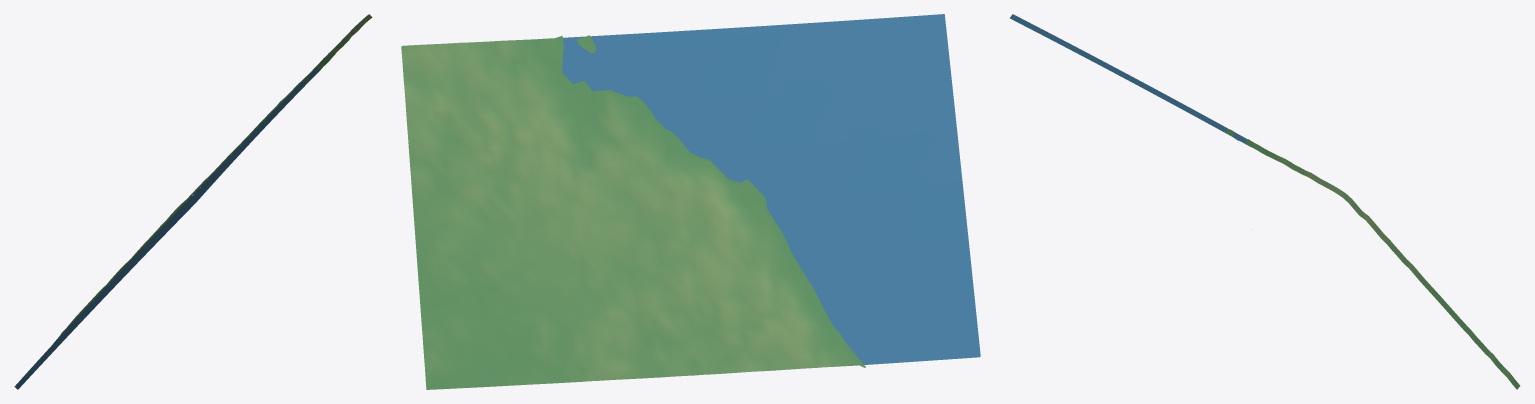
3 views of the same model, side by side, from view 1: azimuth 30°, elevation 25°; view 2: azimuth 150°, elevation 25°; view 3: azimuth 270°, elevation 25° (orthographic). The views are drawn at different scales.
Parts seen in each view (by area): view 1: geometry_1, geometry_0; view 2: geometry_0, geometry_1; view 3: geometry_0, geometry_1.
Boxes of the visible parts, x1,y1,x2,y2 form: geometry_1: (14,68,320,389); geometry_0: (53,14,372,343); geometry_0: (401,35,865,389); geometry_1: (562,14,980,365); geometry_0: (1225,129,1520,389); geometry_1: (1010,14,1249,146).
Size of the model in its own units: 253859 by 125258 by 228925.
